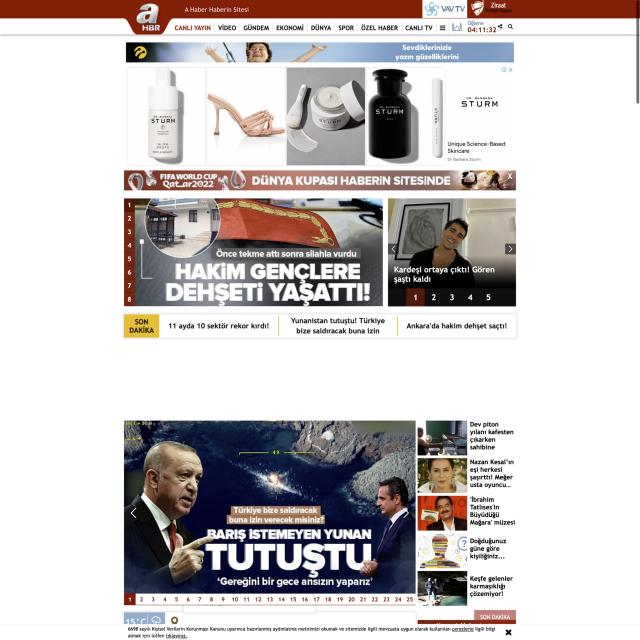logo: (125, 2, 168, 35)
navigation: (174, 22, 448, 33), (129, 506, 138, 520), (388, 243, 399, 254), (505, 243, 516, 254), (402, 506, 410, 521)
